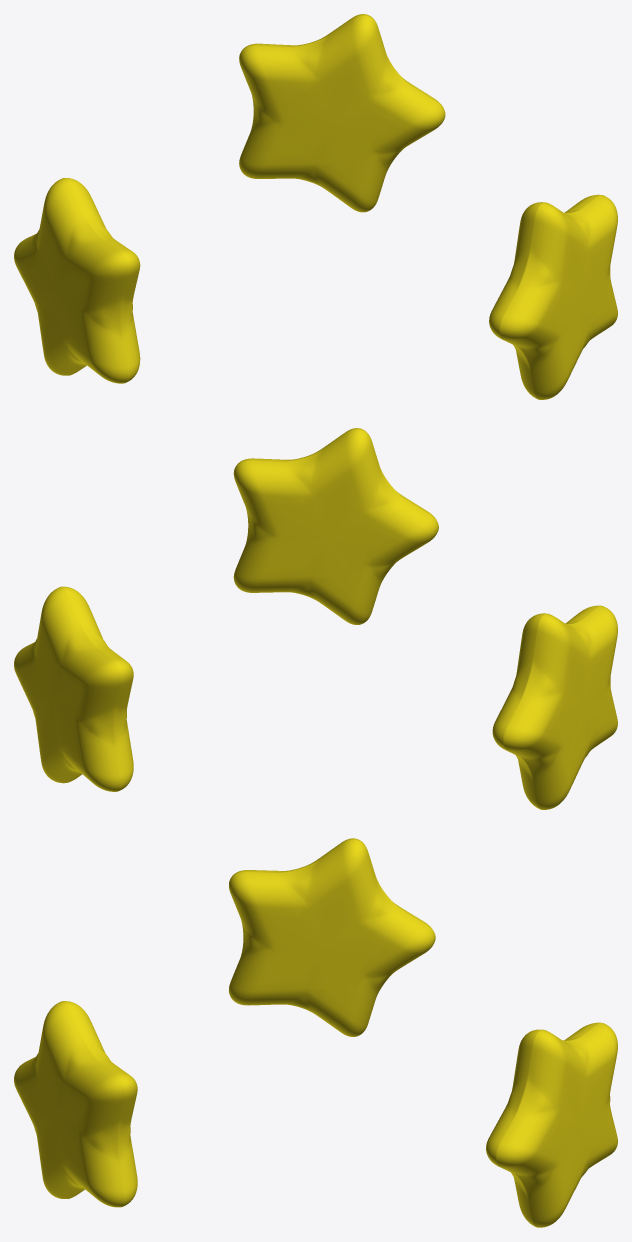
Rendered from Zvezdo4ki 2.fbx.
3 views of the same model, one above another, from view 1: azimuth 30°, elevation 25°; view 2: azimuth 150°, elevation 25°; view 3: azimuth 270°, elevation 25° (orthographic).
Visible parts, largest first — view 1: Circle.002, Circle.001, Circle; view 2: Circle.001, Circle, Circle.002; view 3: Circle, Circle.002, Circle.001.
Part boxes in pixels (bbox=[...]): Circle.002: bbox=[239, 14, 445, 212]; Circle.001: bbox=[489, 194, 617, 399]; Circle: bbox=[14, 178, 140, 383]; Circle.001: bbox=[233, 428, 438, 624]; Circle: bbox=[492, 605, 617, 809]; Circle.002: bbox=[14, 586, 133, 791]; Circle: bbox=[229, 838, 435, 1036]; Circle.002: bbox=[486, 1022, 617, 1227]; Circle.001: bbox=[14, 1001, 137, 1207].
Bounding box in the file's own units: 343 × 134 × 376.
